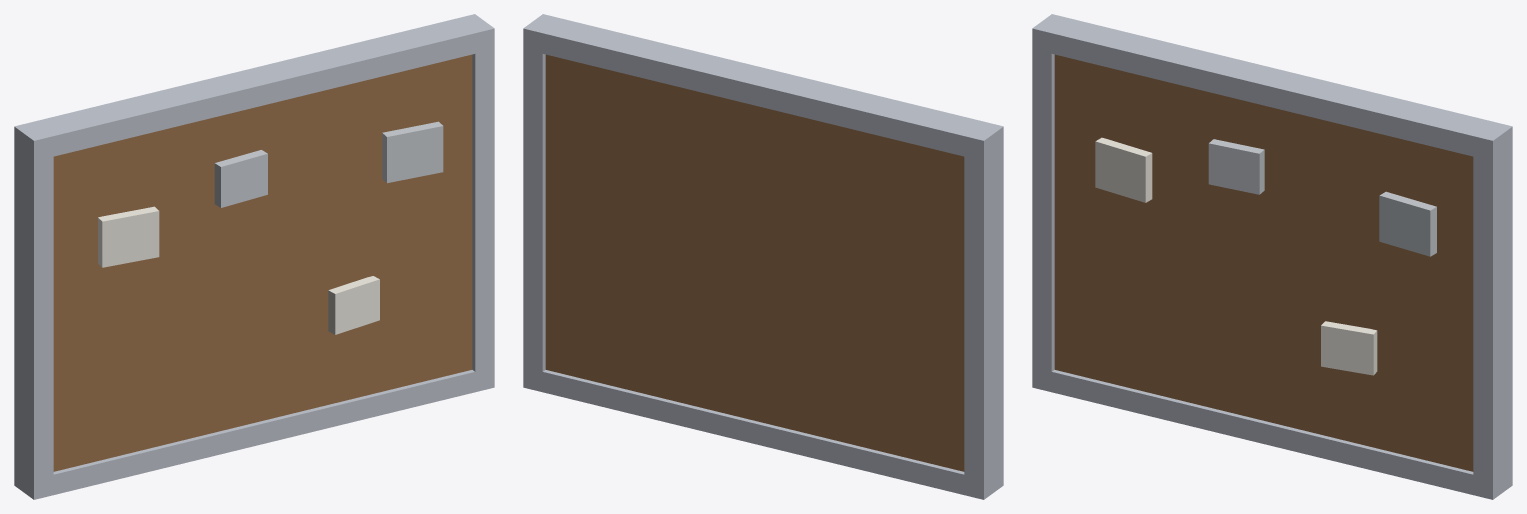
Rendered from raum_pinnwand.glb.
3 views of the same model, side by side, from view 1: azimuth 30°, elevation 25°; view 2: azimuth 150°, elevation 25°; view 3: azimuth 330°, elevation 25° (orthographic).
Parts seen in each view (by area): view 1: flaeche, rahmen_o, rahmen_l, rahmen_u, rahmen_r, notiz_d, notiz_a, notiz_b, notiz_c; view 2: flaeche, rahmen_o, rahmen_l, rahmen_u, rahmen_r; view 3: flaeche, rahmen_o, rahmen_r, rahmen_u, rahmen_l, notiz_d, notiz_a, notiz_b, notiz_c.
Boxes of the visible parts, box(x1,y1,x2,y2) form: flaeche: box(53, 54, 472, 471); rahmen_o: box(14, 14, 494, 160); rahmen_l: box(14, 140, 53, 489); rahmen_u: box(14, 367, 494, 499); rahmen_r: box(472, 39, 494, 381); notiz_d: box(382, 121, 443, 183); notiz_a: box(98, 206, 159, 267); notiz_b: box(214, 150, 267, 207); notiz_c: box(328, 276, 379, 334); flaeche: box(545, 54, 964, 471); rahmen_o: box(523, 14, 1003, 161); rahmen_l: box(964, 137, 1003, 489); rahmen_u: box(523, 367, 1003, 499); rahmen_r: box(523, 39, 545, 381); flaeche: box(1054, 54, 1473, 471); rahmen_o: box(1032, 14, 1512, 161); rahmen_r: box(1473, 142, 1512, 489); rahmen_u: box(1032, 367, 1512, 499); rahmen_l: box(1032, 39, 1054, 381); notiz_d: box(1379, 191, 1436, 256); notiz_a: box(1095, 137, 1152, 202); notiz_b: box(1208, 139, 1264, 194); notiz_c: box(1321, 321, 1377, 375).
Bounding box in the file's own units: 0.94 × 0.7 × 0.0919.
